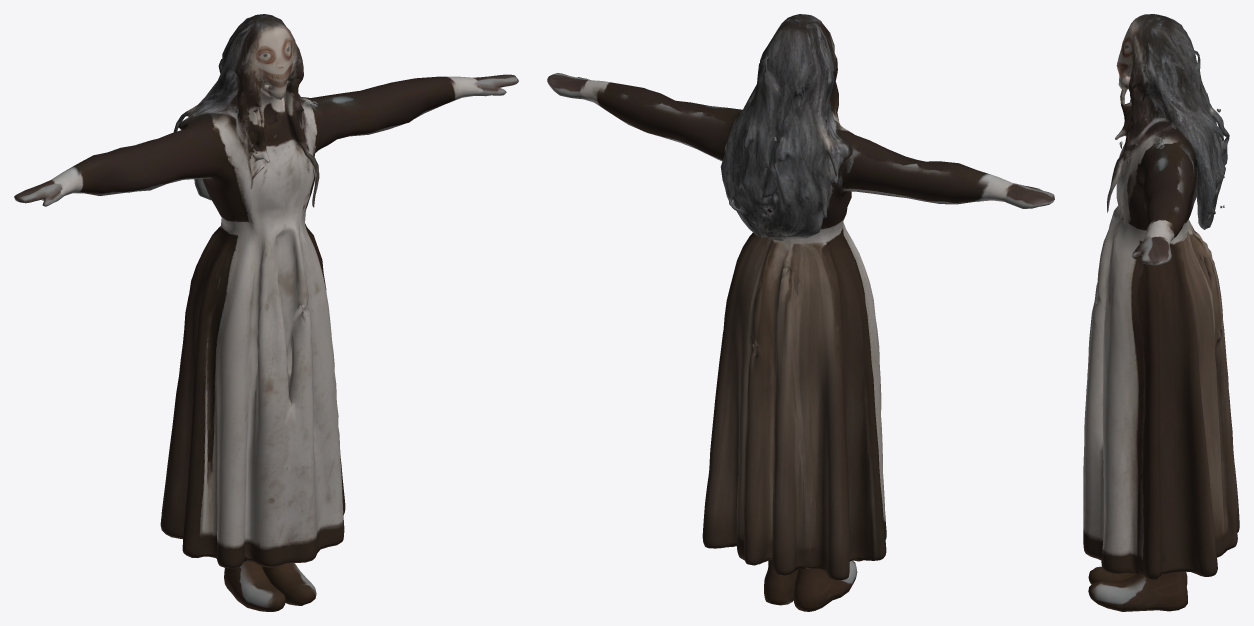
The model's file is tripo_convert_c81a3380-c4c1-4fe3-928d-3dca58f6d3f6.fbx.
3 views of the same model, side by side, from view 1: azimuth 30°, elevation 25°; view 2: azimuth 150°, elevation 25°; view 3: azimuth 270°, elevation 25° (orthographic).
Parts seen in each view (by area): view 1: tripo_node_c81a3380; view 2: tripo_node_c81a3380; view 3: tripo_node_c81a3380.
Boxes of the visible parts, bbox=[...] form: tripo_node_c81a3380: bbox=[14, 14, 518, 611]; tripo_node_c81a3380: bbox=[547, 14, 1054, 611]; tripo_node_c81a3380: bbox=[1083, 14, 1239, 611].
Bounding box in the file's own units: 90.93 × 24.24 × 99.67.
Materials: 1 (1 with a texture image).
